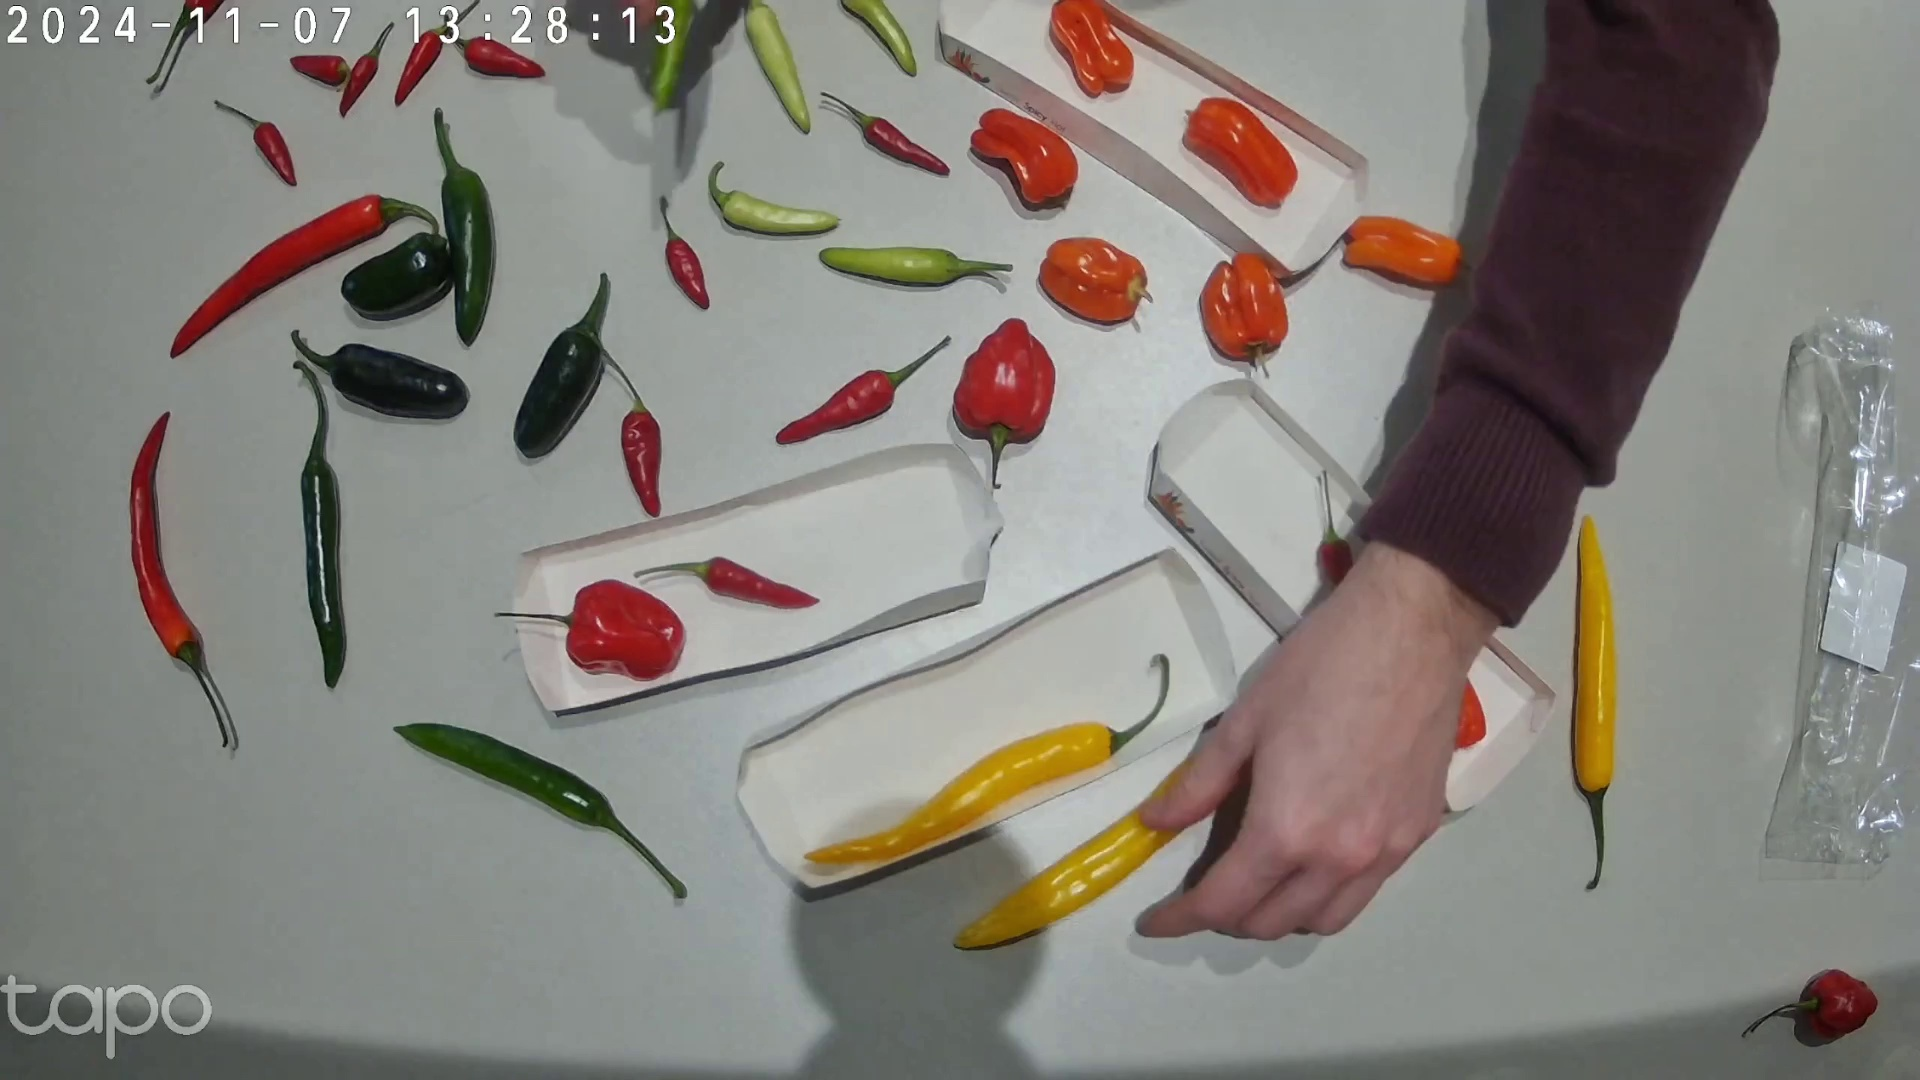Habanero_Pepper_Red: (493, 578, 684, 679), (954, 316, 1056, 490), (1751, 969, 1878, 1042)
Jalapeno_Green: (512, 272, 608, 461), (290, 328, 469, 421), (341, 232, 451, 318)
Leon_Orange: (1185, 96, 1298, 205), (1198, 253, 1287, 379), (972, 107, 1078, 205), (1038, 236, 1154, 323), (1343, 215, 1483, 285), (1051, 0, 1133, 95)
Rawit_Green: (708, 162, 839, 234), (820, 247, 1014, 285), (1319, 471, 1353, 584)
Rawit_Red: (776, 333, 954, 446), (821, 90, 949, 176), (600, 350, 662, 519), (635, 556, 820, 610), (214, 99, 297, 186), (660, 195, 711, 309), (338, 21, 394, 115), (288, 53, 353, 86)
Spanish_Pepper_Green: (393, 724, 690, 901), (293, 362, 346, 689), (432, 105, 495, 346), (491, 341, 494, 345)
Spanish_Pepper_Red: (168, 194, 440, 360), (128, 412, 231, 745)
Spanish_Pepper_Yellow: (805, 651, 1167, 858), (953, 755, 1198, 950), (1574, 515, 1621, 892)
